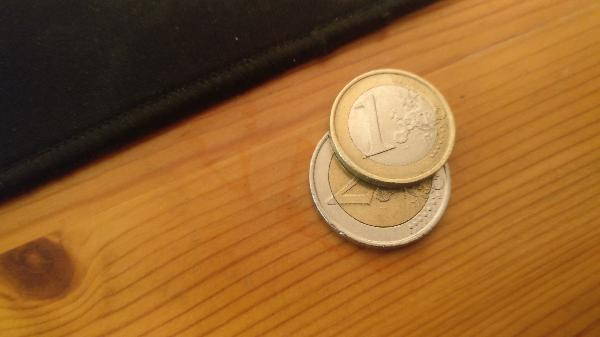One Euro: (328, 68, 457, 188)
Two Euro: (312, 127, 449, 252)
